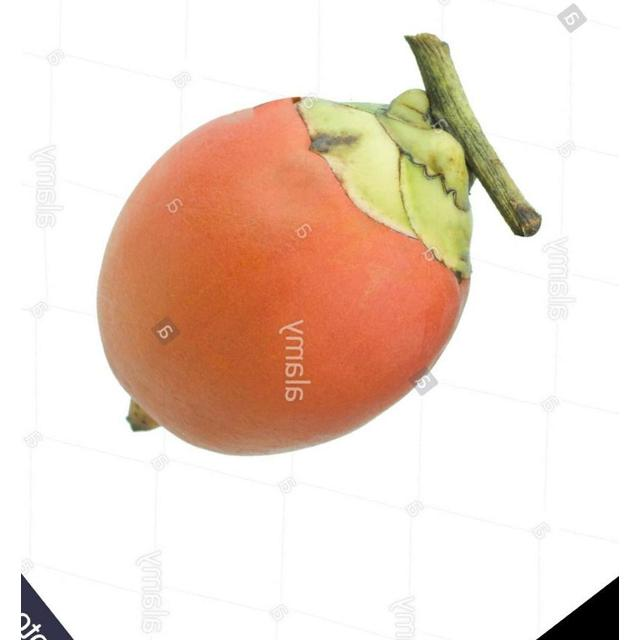good: (95, 33, 541, 460)
